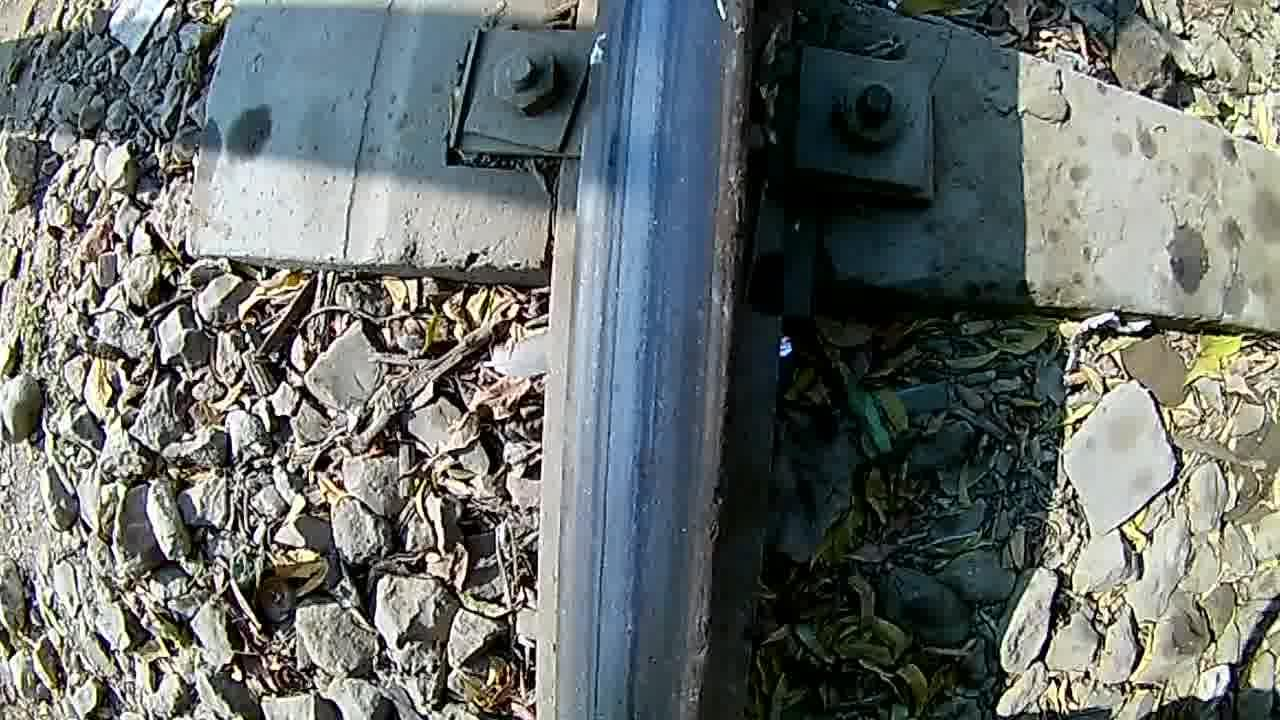clip_missing: (542, 3, 768, 720)
